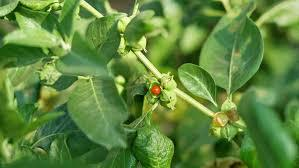healthy_leaf: (53, 21, 272, 159)
